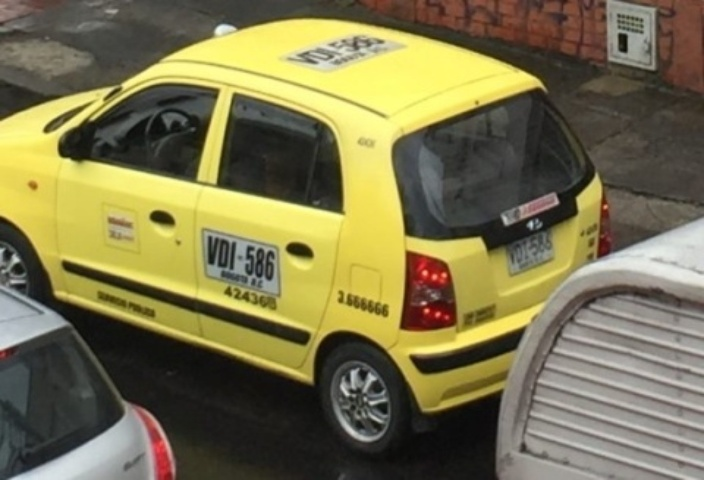taxi: (12, 24, 616, 431)
